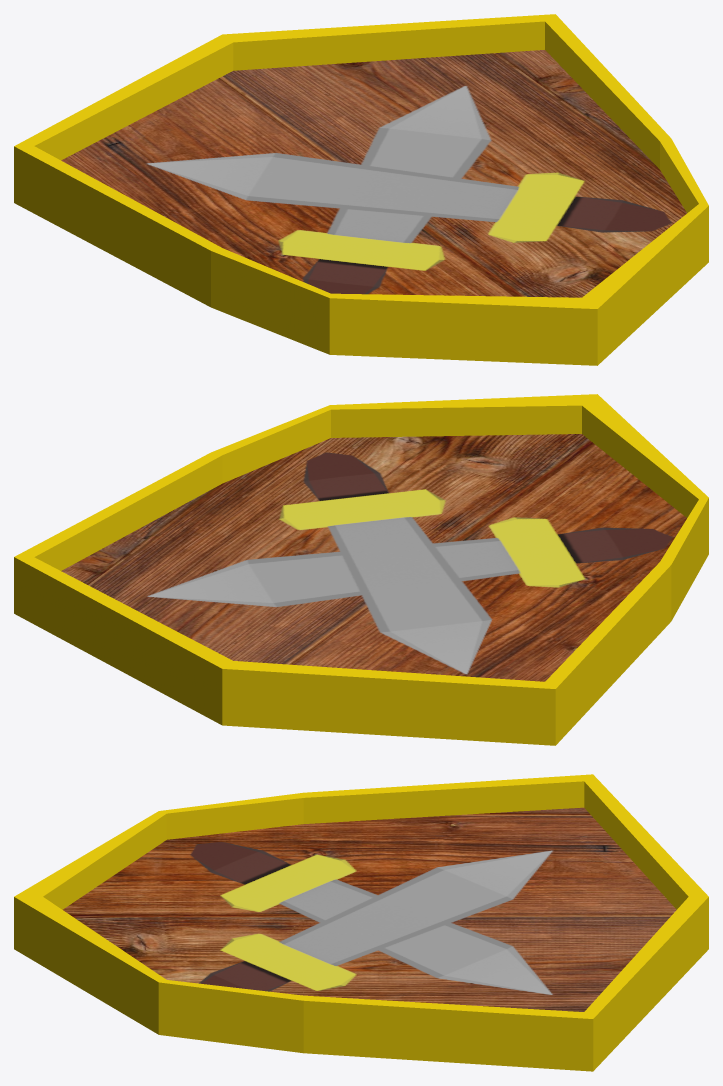
File: display.fbx
The picture shows the model from 3 angles, top to bottom: view 1: azimuth 30°, elevation 25°; view 2: azimuth 150°, elevation 25°; view 3: azimuth 270°, elevation 25°; orthographic projection. The views are drawn at different scales.
Parts seen in each view (by area): view 1: Display; view 2: Display; view 3: Display.
Part boxes in pixels (x1,y1,x2,y2): Display: (14, 14, 708, 365); Display: (14, 394, 708, 745); Display: (14, 774, 708, 1071).
Size of the model in its own units: 200 by 20 by 240.
